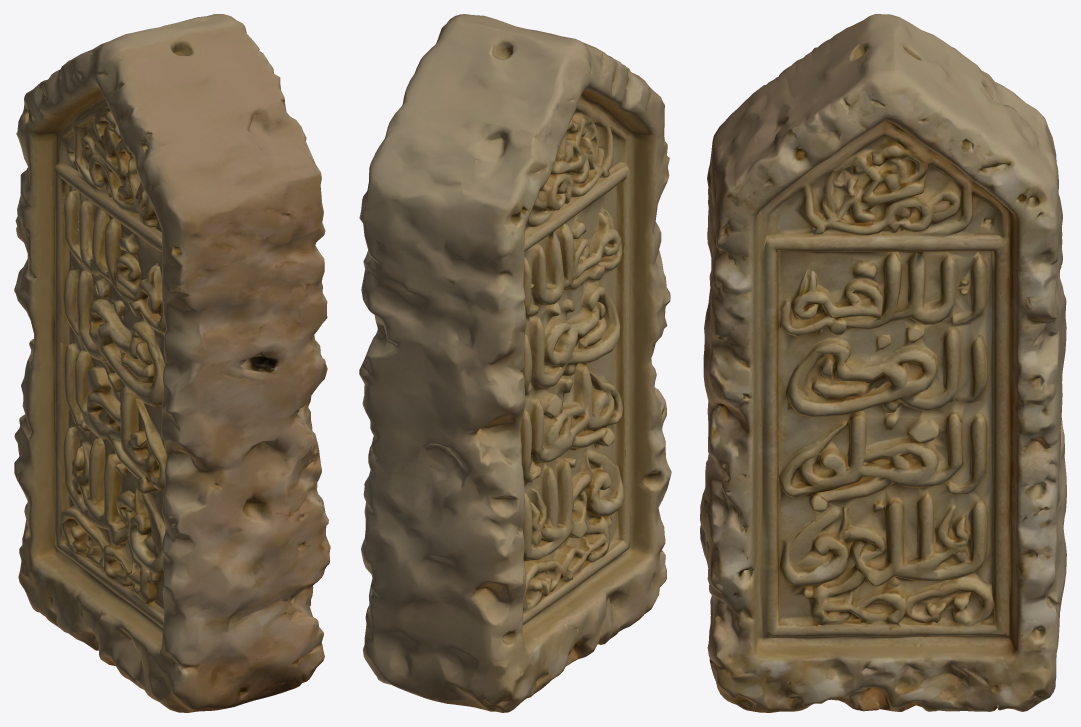
Rendered from tombstone.glb.
The picture shows the model from 3 angles, left to right: view 1: azimuth 30°, elevation 25°; view 2: azimuth 150°, elevation 25°; view 3: azimuth 270°, elevation 25°; orthographic projection. The views are drawn at different scales.
Parts seen in each view (by area): view 1: tripo_node_6bc0df3e-dbf7-4185-b0df-8258b41374ea; view 2: tripo_node_6bc0df3e-dbf7-4185-b0df-8258b41374ea; view 3: tripo_node_6bc0df3e-dbf7-4185-b0df-8258b41374ea.
Boxes of the visible parts, x1=… form: tripo_node_6bc0df3e-dbf7-4185-b0df-8258b41374ea: x1=14, y1=14, x2=330, y2=712; tripo_node_6bc0df3e-dbf7-4185-b0df-8258b41374ea: x1=359, y1=14, x2=671, y2=712; tripo_node_6bc0df3e-dbf7-4185-b0df-8258b41374ea: x1=700, y1=14, x2=1066, y2=712.
Bounding box in the file's own units: 0.2758 × 1 × 0.5202.
1 material, 1 textured.
